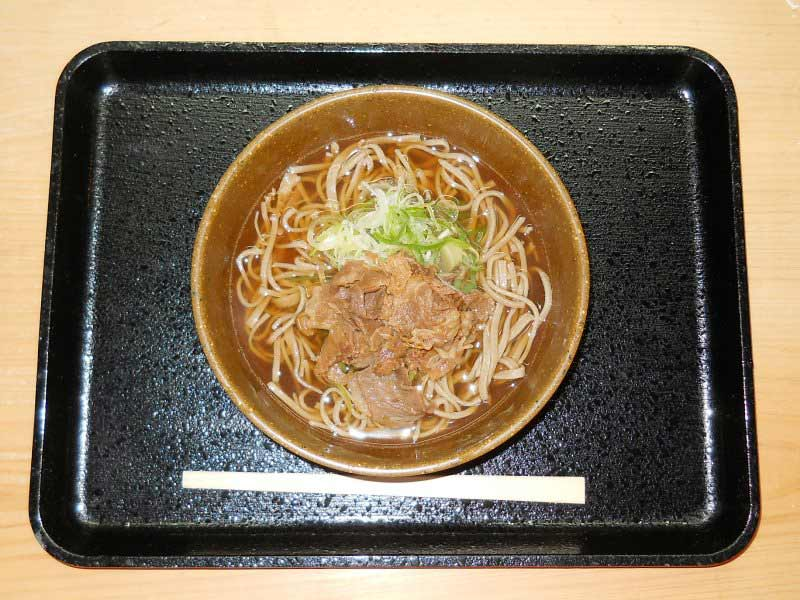Soba: (239, 132, 548, 455)
